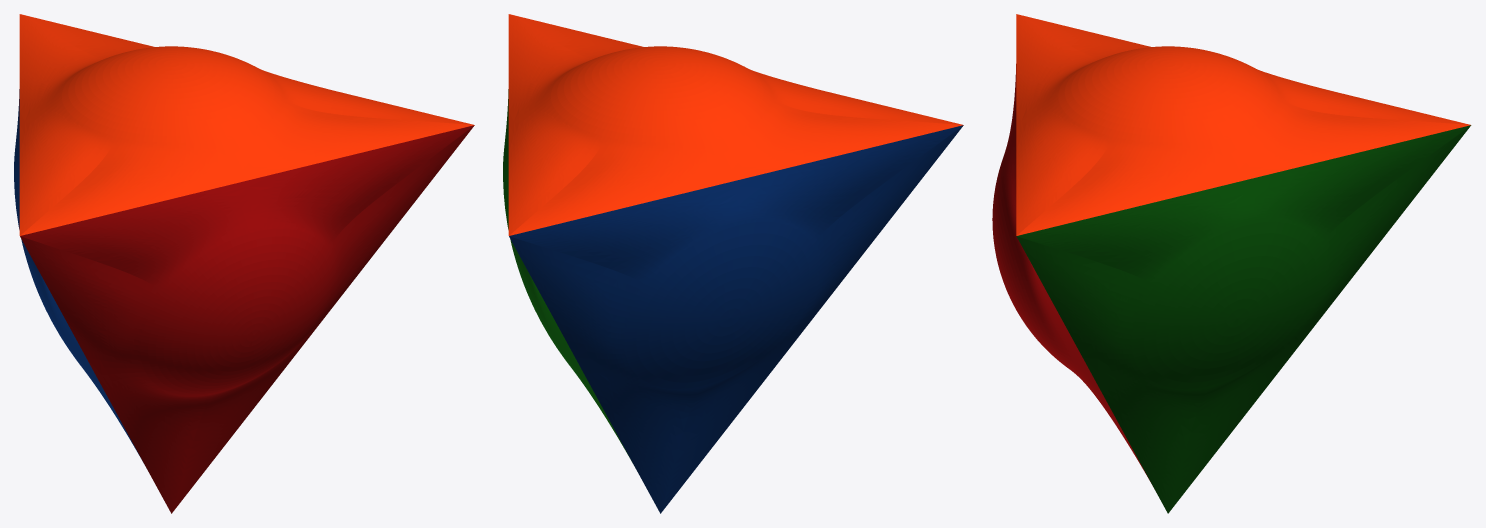
File: 2_2_1_1_tetrahedron.obj
The picture shows the model from 3 angles, left to right: view 1: azimuth 30°, elevation 25°; view 2: azimuth 150°, elevation 25°; view 3: azimuth 270°, elevation 25°; orthographic projection.
Parts seen in each view (by area): view 1: Level_2_-_level_2_front_Level_2_-_level_2_front.001, Level_2_-_level_2_top_Level_2_-_level_2_top.001, Level_1_-_level_1_left_Level_1_-_level_1_left.002; view 2: Level_1_-_level_1_left_Level_1_-_level_1_left.002, Level_2_-_level_2_top_Level_2_-_level_2_top.001, Level_1_-_level_1_right_Level_1_-_level_1_right.002; view 3: Level_1_-_level_1_right_Level_1_-_level_1_right.002, Level_2_-_level_2_top_Level_2_-_level_2_top.001, Level_2_-_level_2_front_Level_2_-_level_2_front.001.
Part boxes in pixels (x1,y1,x2,y2): Level_2_-_level_2_front_Level_2_-_level_2_front.001: (20,125,474,513); Level_2_-_level_2_top_Level_2_-_level_2_top.001: (19,14,474,235); Level_1_-_level_1_left_Level_1_-_level_1_left.002: (14,89,146,468); Level_1_-_level_1_left_Level_1_-_level_1_left.002: (509,125,963,513); Level_2_-_level_2_top_Level_2_-_level_2_top.001: (508,14,963,235); Level_1_-_level_1_right_Level_1_-_level_1_right.002: (503,89,635,468); Level_1_-_level_1_right_Level_1_-_level_1_right.002: (1016,125,1471,513); Level_2_-_level_2_top_Level_2_-_level_2_top.001: (1016,14,1470,235); Level_2_-_level_2_front_Level_2_-_level_2_front.001: (992,64,1154,489).
Size of the model in its own units: 0.1 by 0.0946 by 0.0911.
